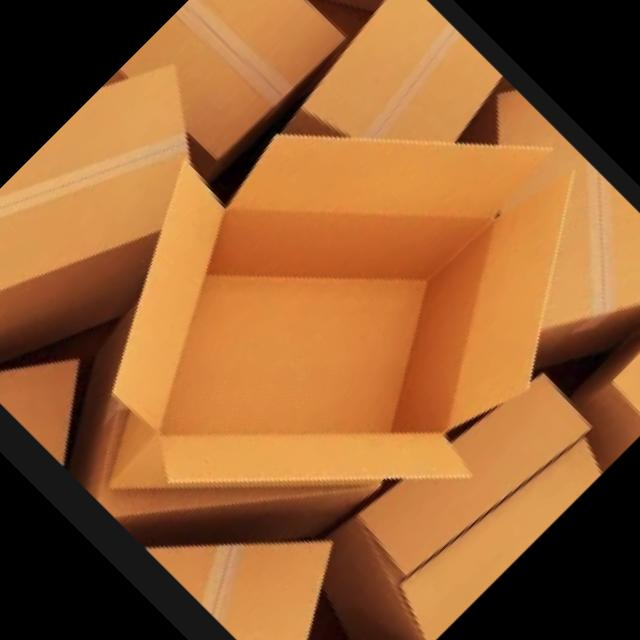Kardus: (0, 0, 640, 640), (0, 35, 276, 418)
